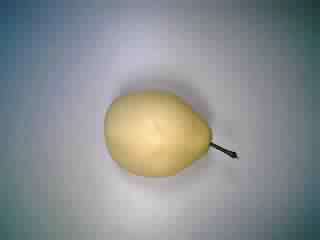pear: (88, 79, 245, 187)
